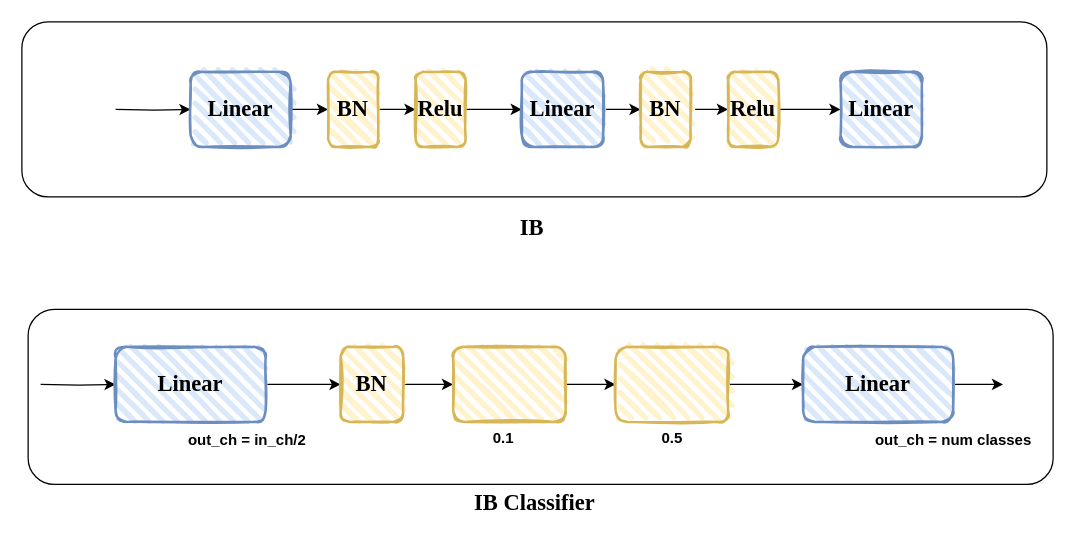
Some shapes in this 1075 by 550 pixel diagram are drawn without their labels. Each missing label, with the centre of its shape:
Dropout: the point at 671,383
leakyRelu: the point at 508,383
